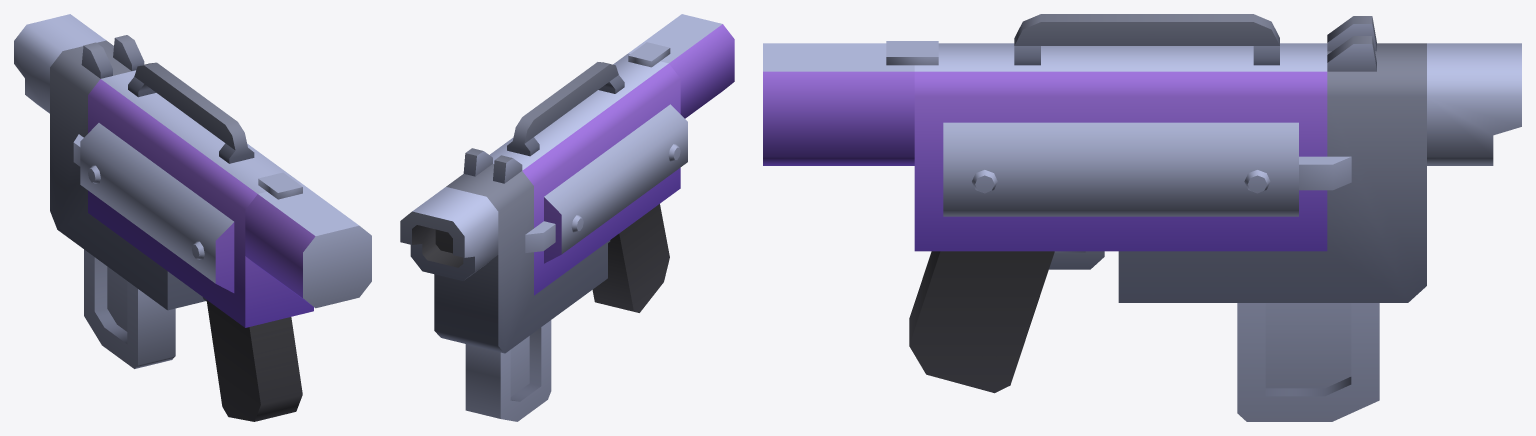
The model's file is police-gun.glb.
3 views of the same model, side by side, from view 1: azimuth 30°, elevation 25°; view 2: azimuth 150°, elevation 25°; view 3: azimuth 270°, elevation 25° (orthographic). The views are drawn at different scales.
Visible parts, largest first — view 1: blaster-a, magazine; view 2: blaster-a, magazine; view 3: blaster-a, magazine.
Boxes of the visible parts, x1,y1,x2,y2 form: blaster-a: [14, 14, 371, 421]; magazine: [84, 249, 175, 368]; blaster-a: [400, 14, 734, 353]; magazine: [465, 320, 551, 421]; blaster-a: [763, 14, 1521, 393]; magazine: [1237, 303, 1379, 421].
Size of the model in its own units: 0.1011 by 0.2507 by 0.44.
Materials: 1 (1 with a texture image).
